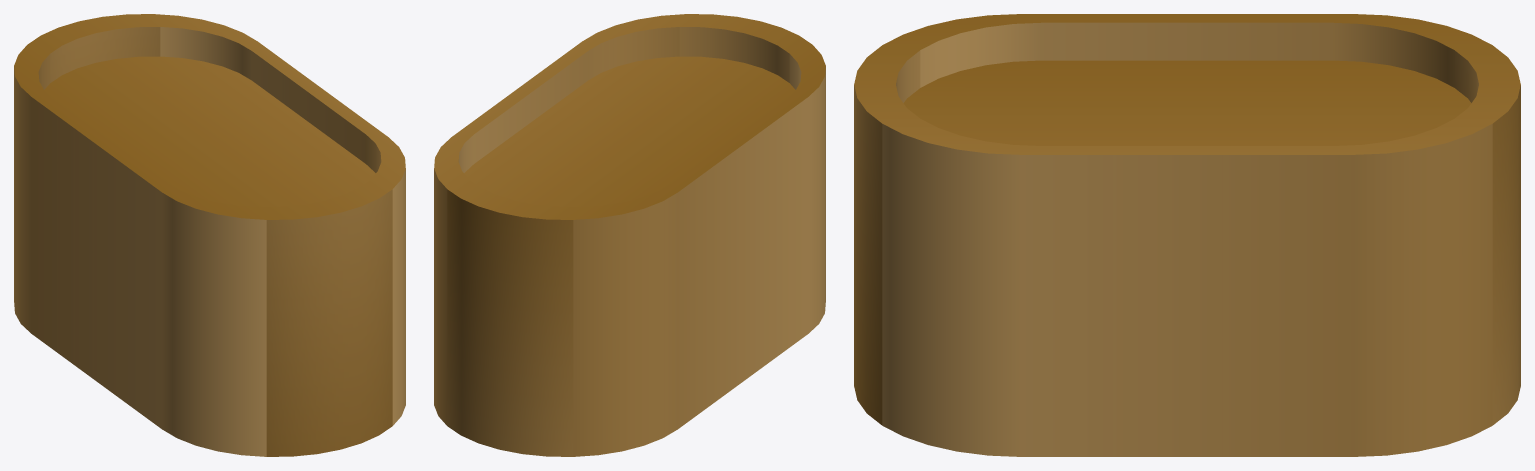
The model's file is Flower box final.fbx.
3 renders of one model, left to right at view 1: azimuth 30°, elevation 25°; view 2: azimuth 150°, elevation 25°; view 3: azimuth 270°, elevation 25°, orthographic. The views are drawn at different scales.
Visible parts, largest first — view 1: pCube3; view 2: pCube3; view 3: pCube3.
Part boxes in pixels (box(x1,y1,x2,y2)): pCube3: box(14, 14, 405, 456); pCube3: box(434, 14, 825, 456); pCube3: box(854, 14, 1520, 456).
Size of the model in its own units: 4 by 4 by 8.
1 material, 1 textured.
